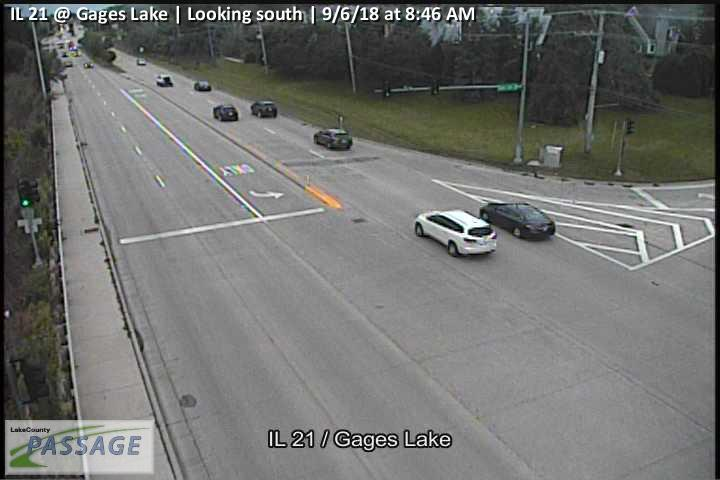SUV: (415, 209, 498, 257), (250, 100, 278, 118), (213, 104, 239, 121), (156, 74, 174, 87)
Sedan: (479, 201, 556, 239), (313, 128, 353, 149), (194, 80, 211, 91)
